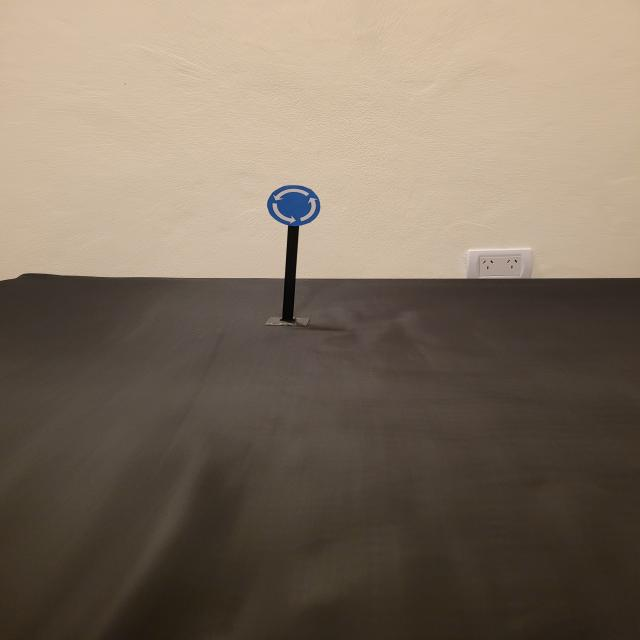round_about: (267, 185, 321, 226)
